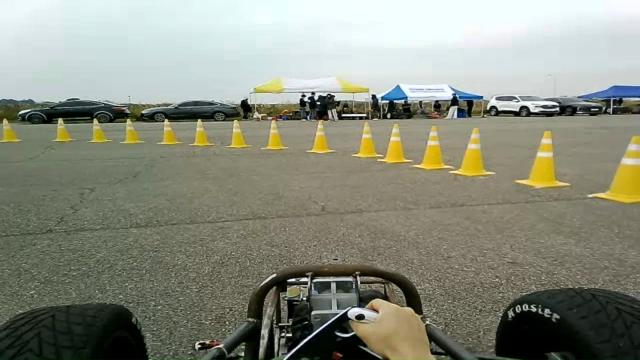yellow cone: (588, 135, 639, 203), (514, 130, 570, 188), (448, 127, 496, 176), (412, 125, 454, 170), (377, 123, 412, 163), (351, 121, 383, 158), (305, 120, 337, 154), (260, 118, 288, 150), (224, 119, 252, 148), (188, 119, 215, 146), (156, 118, 183, 144), (119, 118, 145, 144), (51, 117, 76, 142), (86, 118, 112, 142), (0, 118, 22, 142)
